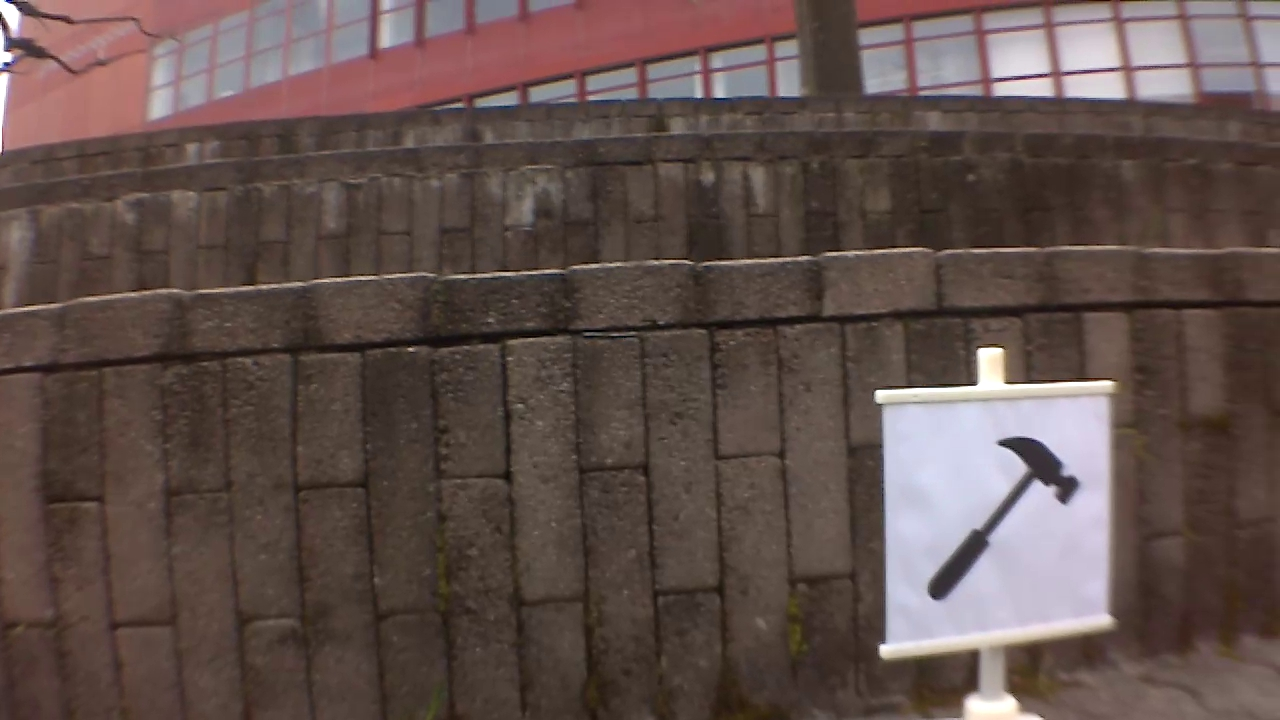hammer: (918, 428, 1086, 614)
